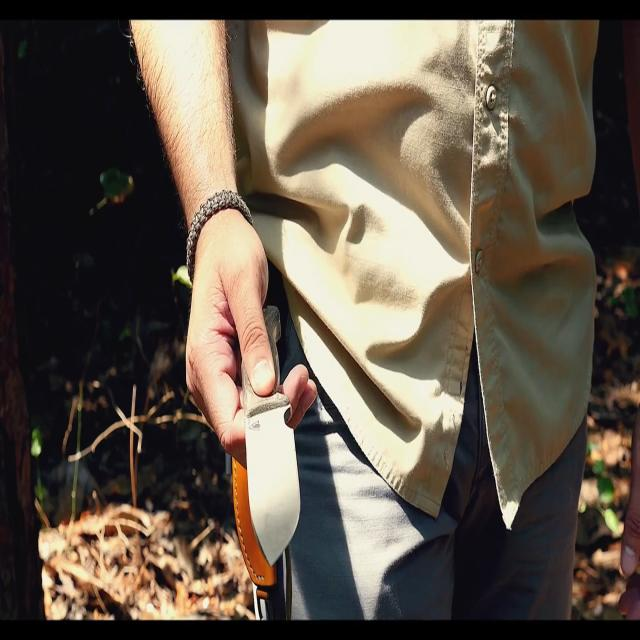knife: (240, 301, 303, 566)
